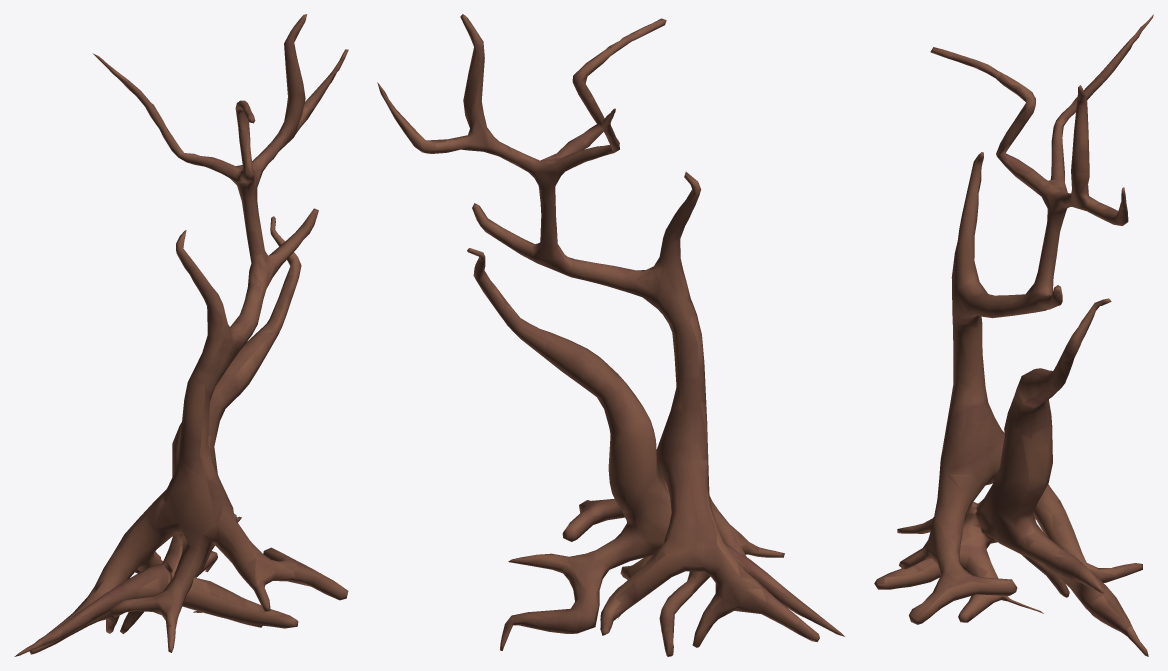
The model's file is Tree3.fbx.
3 renders of one model, left to right at view 1: azimuth 30°, elevation 25°; view 2: azimuth 150°, elevation 25°; view 3: azimuth 270°, elevation 25°, orthographic. The views are drawn at different scales.
Parts seen in each view (by area): view 1: Tree3; view 2: Tree3; view 3: Tree3.
Part boxes in pixels (x1,y1,x2,y2): Tree3: (14, 14, 348, 656); Tree3: (377, 14, 844, 656); Tree3: (874, 14, 1153, 656).
Size of the model in its own units: 225 by 313 by 130.
1 material, 1 textured.
